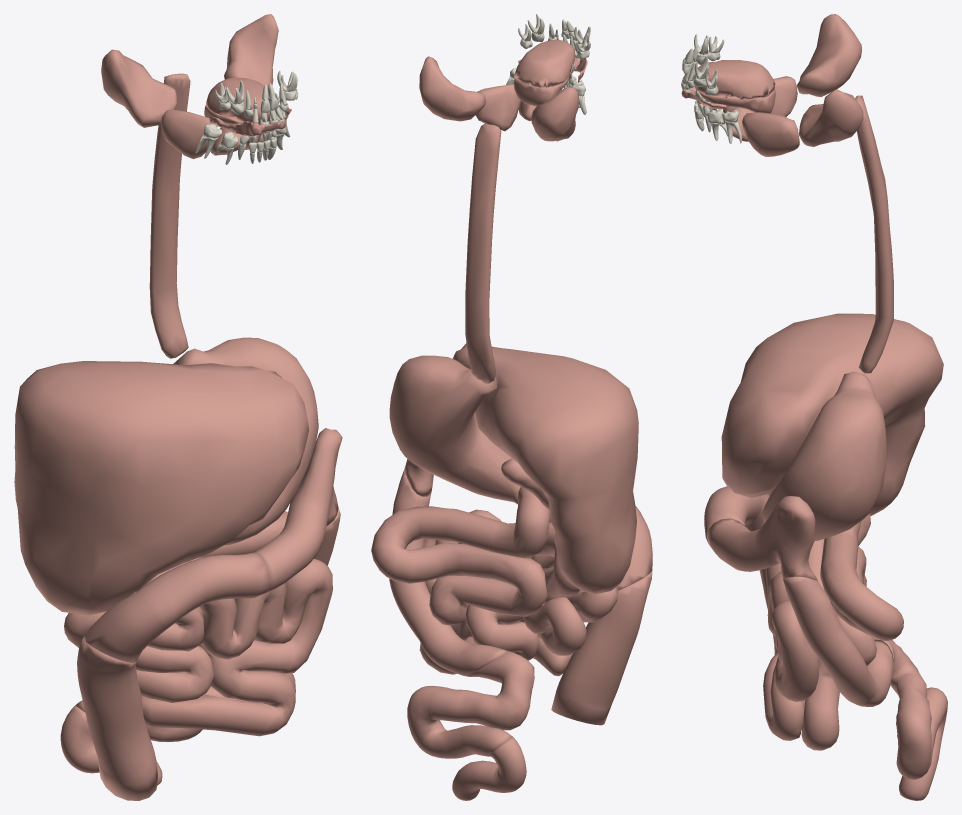
Rendered from pediatric_infant_female.digestive.LOD0.glb.
The picture shows the model from 3 angles, left to right: view 1: azimuth 30°, elevation 25°; view 2: azimuth 150°, elevation 25°; view 3: azimuth 270°, elevation 25°; orthographic projection. The views are drawn at different scales.
Parts seen in each view (by area): view 1: PEDIATRIC.INFANT.FEMALE.DIGESTIVE.LIVER, PEDIATRIC.INFANT.FEMALE.DIGESTIVE.SMALL_INTESTINE_WALL, PEDIATRIC.INFANT.FEMALE.DIGESTIVE.TRANSVERSE_COLON_WALL.R, PEDIATRIC.INFANT.FEMALE.DIGESTIVE.ASCENDING_COLON_WALL, PEDIATRIC.INFANT.FEMALE.DIGESTIVE.OESOPHAGUS_WALL, PEDIATRIC.INFANT.FEMALE.DIGESTIVE.TRANSVERSE_COLON_WALL.L, PEDIATRIC.INFANT.FEMALE.DIGESTIVE.SALIVARY_GLANDS.R, PEDIATRIC.INFANT.FEMALE.DIGESTIVE.STOMACH_WALL, PEDIATRIC.INFANT.FEMALE.DIGESTIVE.SALIVARY_GLANDS.L, PEDIATRIC.INFANT.FEMALE.DIGESTIVE.DECIDUOUS_CEMENTUM, PEDIATRIC.INFANT.FEMALE.DIGESTIVE.RECTUM_WALL, PEDIATRIC.INFANT.FEMALE.DIGESTIVE.ORAL_MUCOSA_MOUTH_FLOOR (+4 smaller); view 2: PEDIATRIC.INFANT.FEMALE.DIGESTIVE.LIVER, PEDIATRIC.INFANT.FEMALE.DIGESTIVE.SMALL_INTESTINE_WALL, PEDIATRIC.INFANT.FEMALE.DIGESTIVE.STOMACH_WALL, PEDIATRIC.INFANT.FEMALE.DIGESTIVE.SIGMOID_COLON_WALL, PEDIATRIC.INFANT.FEMALE.DIGESTIVE.ASCENDING_COLON_WALL, PEDIATRIC.INFANT.FEMALE.DIGESTIVE.OESOPHAGUS_WALL, PEDIATRIC.INFANT.FEMALE.DIGESTIVE.DESCENDING_COLON_WALL, PEDIATRIC.INFANT.FEMALE.DIGESTIVE.SALIVARY_GLANDS.L, PEDIATRIC.INFANT.FEMALE.DIGESTIVE.RECTUM_WALL, PEDIATRIC.INFANT.FEMALE.DIGESTIVE.ORAL_MUCOSA_MOUTH_FLOOR, PEDIATRIC.INFANT.FEMALE.DIGESTIVE.SALIVARY_GLANDS.R, PEDIATRIC.INFANT.FEMALE.DIGESTIVE.TRANSVERSE_COLON_WALL.R (+5 smaller); view 3: PEDIATRIC.INFANT.FEMALE.DIGESTIVE.LIVER, PEDIATRIC.INFANT.FEMALE.DIGESTIVE.SMALL_INTESTINE_WALL, PEDIATRIC.INFANT.FEMALE.DIGESTIVE.STOMACH_WALL, PEDIATRIC.INFANT.FEMALE.DIGESTIVE.DESCENDING_COLON_WALL, PEDIATRIC.INFANT.FEMALE.DIGESTIVE.TRANSVERSE_COLON_WALL.L, PEDIATRIC.INFANT.FEMALE.DIGESTIVE.SALIVARY_GLANDS.L, PEDIATRIC.INFANT.FEMALE.DIGESTIVE.SIGMOID_COLON_WALL, PEDIATRIC.INFANT.FEMALE.DIGESTIVE.OESOPHAGUS_WALL, PEDIATRIC.INFANT.FEMALE.DIGESTIVE.SALIVARY_GLANDS.R, PEDIATRIC.INFANT.FEMALE.DIGESTIVE.ORAL_MUCOSA_MOUTH_FLOOR, PEDIATRIC.INFANT.FEMALE.DIGESTIVE.TRANSVERSE_COLON_WALL.R, PEDIATRIC.INFANT.FEMALE.DIGESTIVE.DECIDUOUS_CEMENTUM (+3 smaller).
Part boxes in pixels (x1,y1,x2,y2): PEDIATRIC.INFANT.FEMALE.DIGESTIVE.LIVER: (14, 361, 309, 615); PEDIATRIC.INFANT.FEMALE.DIGESTIVE.SMALL_INTESTINE_WALL: (64, 511, 332, 736); PEDIATRIC.INFANT.FEMALE.DIGESTIVE.TRANSVERSE_COLON_WALL.R: (83, 552, 269, 662); PEDIATRIC.INFANT.FEMALE.DIGESTIVE.ASCENDING_COLON_WALL: (77, 638, 158, 800); PEDIATRIC.INFANT.FEMALE.DIGESTIVE.OESOPHAGUS_WALL: (149, 73, 190, 358); PEDIATRIC.INFANT.FEMALE.DIGESTIVE.TRANSVERSE_COLON_WALL.L: (253, 428, 342, 593); PEDIATRIC.INFANT.FEMALE.DIGESTIVE.SALIVARY_GLANDS.R: (101, 49, 241, 159); PEDIATRIC.INFANT.FEMALE.DIGESTIVE.STOMACH_WALL: (173, 337, 318, 545); PEDIATRIC.INFANT.FEMALE.DIGESTIVE.SALIVARY_GLANDS.L: (224, 14, 278, 149); PEDIATRIC.INFANT.FEMALE.DIGESTIVE.DECIDUOUS_CEMENTUM: (195, 70, 297, 164); PEDIATRIC.INFANT.FEMALE.DIGESTIVE.RECTUM_WALL: (60, 705, 162, 785); PEDIATRIC.INFANT.FEMALE.DIGESTIVE.ORAL_MUCOSA_MOUTH_FLOOR: (206, 77, 269, 123); PEDIATRIC.INFANT.FEMALE.DIGESTIVE.LIVER: (452, 343, 638, 594); PEDIATRIC.INFANT.FEMALE.DIGESTIVE.SMALL_INTESTINE_WALL: (371, 487, 618, 676); PEDIATRIC.INFANT.FEMALE.DIGESTIVE.STOMACH_WALL: (389, 355, 520, 503); PEDIATRIC.INFANT.FEMALE.DIGESTIVE.SIGMOID_COLON_WALL: (407, 651, 534, 758); PEDIATRIC.INFANT.FEMALE.DIGESTIVE.ASCENDING_COLON_WALL: (551, 571, 652, 725); PEDIATRIC.INFANT.FEMALE.DIGESTIVE.OESOPHAGUS_WALL: (465, 123, 501, 383); PEDIATRIC.INFANT.FEMALE.DIGESTIVE.DESCENDING_COLON_WALL: (389, 469, 507, 676); PEDIATRIC.INFANT.FEMALE.DIGESTIVE.SALIVARY_GLANDS.L: (419, 56, 536, 131); PEDIATRIC.INFANT.FEMALE.DIGESTIVE.RECTUM_WALL: (452, 737, 526, 800); PEDIATRIC.INFANT.FEMALE.DIGESTIVE.ORAL_MUCOSA_MOUTH_FLOOR: (514, 40, 574, 87); PEDIATRIC.INFANT.FEMALE.DIGESTIVE.SALIVARY_GLANDS.R: (531, 87, 578, 141); PEDIATRIC.INFANT.FEMALE.DIGESTIVE.TRANSVERSE_COLON_WALL.R: (617, 506, 652, 590); PEDIATRIC.INFANT.FEMALE.DIGESTIVE.LIVER: (721, 313, 943, 516); PEDIATRIC.INFANT.FEMALE.DIGESTIVE.SMALL_INTESTINE_WALL: (763, 513, 903, 750); PEDIATRIC.INFANT.FEMALE.DIGESTIVE.STOMACH_WALL: (762, 372, 887, 540); PEDIATRIC.INFANT.FEMALE.DIGESTIVE.DESCENDING_COLON_WALL: (783, 576, 893, 706); PEDIATRIC.INFANT.FEMALE.DIGESTIVE.TRANSVERSE_COLON_WALL.L: (706, 496, 817, 580); PEDIATRIC.INFANT.FEMALE.DIGESTIVE.SALIVARY_GLANDS.L: (723, 89, 863, 156); PEDIATRIC.INFANT.FEMALE.DIGESTIVE.SIGMOID_COLON_WALL: (874, 637, 947, 779); PEDIATRIC.INFANT.FEMALE.DIGESTIVE.OESOPHAGUS_WALL: (855, 95, 893, 373); PEDIATRIC.INFANT.FEMALE.DIGESTIVE.SALIVARY_GLANDS.R: (723, 14, 861, 116); PEDIATRIC.INFANT.FEMALE.DIGESTIVE.ORAL_MUCOSA_MOUTH_FLOOR: (694, 60, 775, 99); PEDIATRIC.INFANT.FEMALE.DIGESTIVE.TRANSVERSE_COLON_WALL.R: (704, 486, 768, 541); PEDIATRIC.INFANT.FEMALE.DIGESTIVE.DECIDUOUS_CEMENTUM: (682, 34, 741, 143).
Size of the model in its own units: 0.1369 by 0.3662 by 0.1173.
